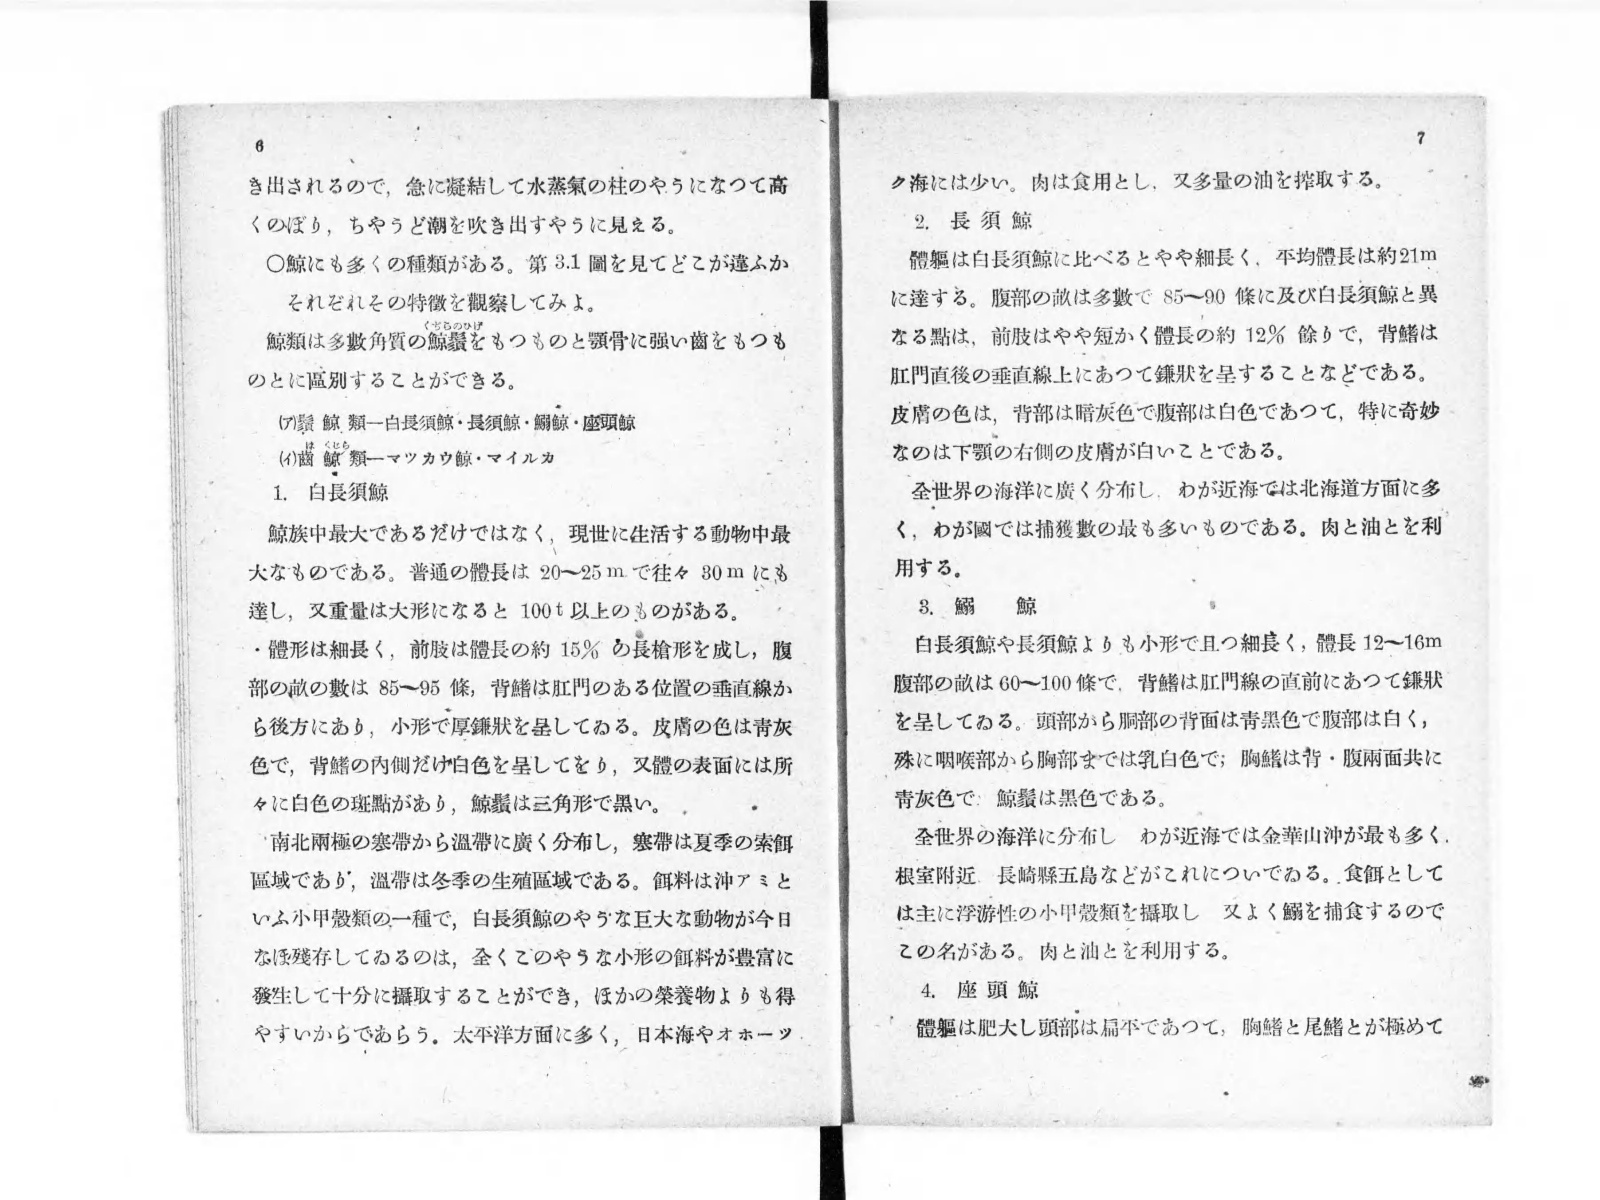1_overall: (168, 95, 1490, 1132)
6_headline: (915, 211, 1032, 231), (921, 979, 1038, 1000), (273, 482, 388, 502), (917, 597, 1037, 614)
8_textline: (897, 900, 1446, 928), (893, 516, 1439, 543), (891, 323, 1436, 350), (894, 747, 1440, 775), (893, 284, 1436, 311), (897, 708, 1429, 736), (894, 671, 1443, 697), (252, 1024, 797, 1050), (893, 401, 1437, 427), (256, 637, 791, 663), (266, 251, 792, 277), (907, 246, 1434, 272), (268, 328, 789, 354), (251, 676, 794, 701), (253, 945, 794, 971), (254, 753, 795, 778), (253, 868, 792, 894), (254, 715, 792, 740), (907, 478, 1439, 503), (915, 824, 1446, 850), (893, 362, 1424, 387), (266, 831, 792, 856), (915, 633, 1439, 658), (898, 863, 1444, 887), (252, 984, 795, 1008), (252, 908, 791, 932), (251, 175, 787, 199), (916, 1017, 1443, 1041), (249, 562, 787, 585), (270, 523, 789, 546), (251, 600, 737, 624), (892, 171, 1380, 194), (251, 214, 679, 239), (276, 442, 557, 478), (254, 793, 656, 817), (275, 412, 634, 437), (892, 441, 1281, 464), (898, 942, 1230, 966), (285, 292, 595, 315), (897, 788, 1160, 812), (249, 371, 511, 392), (897, 558, 956, 579), (1405, 122, 1425, 144), (254, 135, 275, 153)
